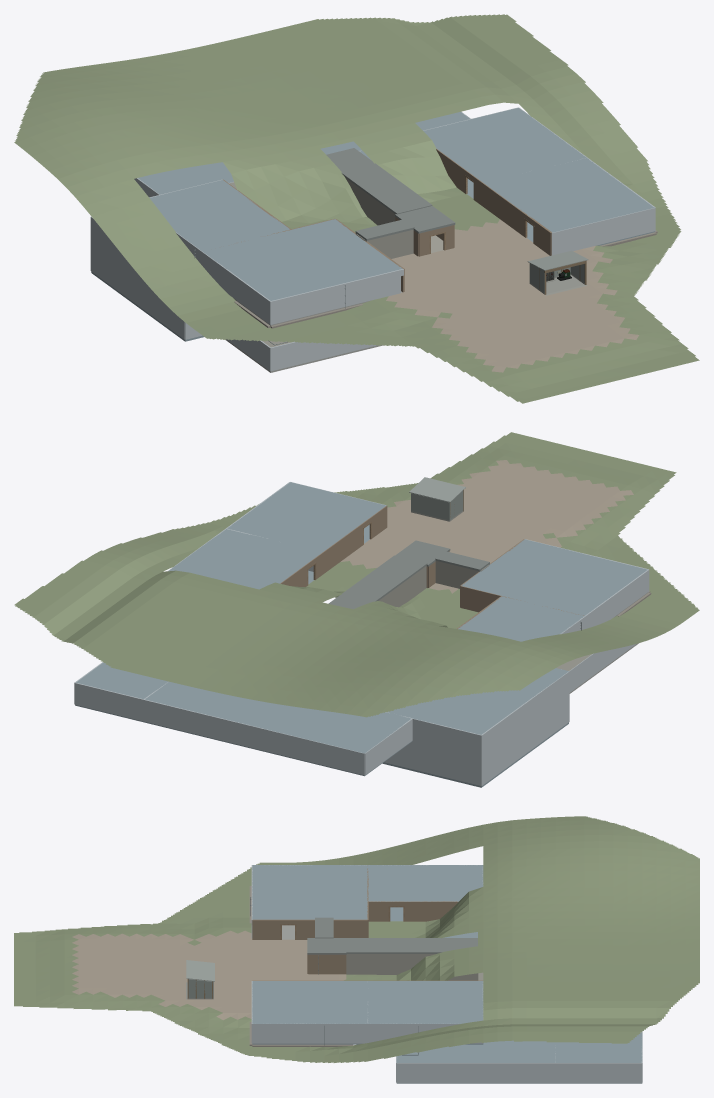
The model's file is mine-lower-slabs.glb.
3 renders of one model, top to bottom at view 1: azimuth 30°, elevation 25°; view 2: azimuth 150°, elevation 25°; view 3: azimuth 270°, elevation 25°, orthographic. The views are drawn at different scales.
Parts seen in each view (by area): view 1: WLD-05 saved ground, Ceiling cap shack, Ceiling cap assay, Ceiling cap wash, Ceiling cap stores, Flat route shell Wall shack S, Mine haul stair weather roof region0, Wall lower W, Wall assay S, Ceiling cap cross, Wall vent S, Wall shack W (+8 smaller); view 2: WLD-05 saved ground, Ceiling cap shack, Ceiling cap cross, Ceiling cap assay, Ceiling cap wash, Wall cross N, Ceiling cap ore-west, Ceiling cap stores, Wall lower W, Wall lower N, Mine haul stair weather roof region0, Wall ore-west W (+14 smaller); view 3: WLD-05 saved ground, Ceiling cap shack, Ceiling cap wash, Ceiling cap assay, Ceiling cap stores, Wall ore-east E, Ceiling cap ore-east, Wall assay E, Mine haul stair weather roof region0, Ceiling cap lift, Wall lift E, Mine haul east retaining wall region0 (+9 smaller).
Boxes of the visible parts, x1,y1,x2,y2 form: WLD-05 saved ground: (14, 14, 699, 403); Ceiling cap shack: (202, 219, 402, 300); Ceiling cap assay: (484, 158, 654, 232); Ceiling cap wash: (423, 107, 586, 182); Ceiling cap stores: (150, 180, 289, 251); Flat route shell Wall shack S: (270, 269, 403, 324); Mine haul stair weather roof region0: (326, 148, 432, 214); Wall lower W: (90, 240, 185, 339); Wall assay S: (551, 208, 655, 255); Ceiling cap cross: (137, 141, 361, 194); Wall vent S: (270, 341, 375, 371); Wall shack W: (201, 251, 270, 324); WLD-05 saved ground: (14, 432, 699, 717); Ceiling cap shack: (461, 539, 647, 615); Ceiling cap cross: (145, 681, 411, 753); Ceiling cap assay: (227, 482, 386, 551); Ceiling cap wash: (168, 529, 322, 589); Wall cross N: (143, 699, 364, 775); Ceiling cap ore-west: (388, 668, 568, 734); Ceiling cap stores: (458, 596, 584, 641); Wall lower W: (481, 693, 569, 785); Wall lower N: (384, 740, 481, 785); Mine haul stair weather roof region0: (328, 555, 427, 609); Wall ore-west W: (481, 671, 569, 756); WLD-05 saved ground: (14, 816, 699, 1062); Ceiling cap shack: (252, 865, 367, 919); Ceiling cap wash: (367, 981, 483, 1023); Ceiling cap assay: (252, 981, 367, 1023); Ceiling cap stores: (367, 865, 483, 901); Wall ore-east E: (396, 1063, 555, 1082); Ceiling cap ore-east: (396, 1040, 555, 1062); Wall assay E: (252, 1023, 367, 1043); Mine haul stair weather roof region0: (346, 938, 477, 953); Ceiling cap lift: (555, 1032, 642, 1062); Wall lift E: (555, 1063, 642, 1082); Mine haul east retaining wall region0: (346, 954, 465, 980).
Size of the model in its own units: 70 by 17.89 by 95.
73 materials, 40 textured.
